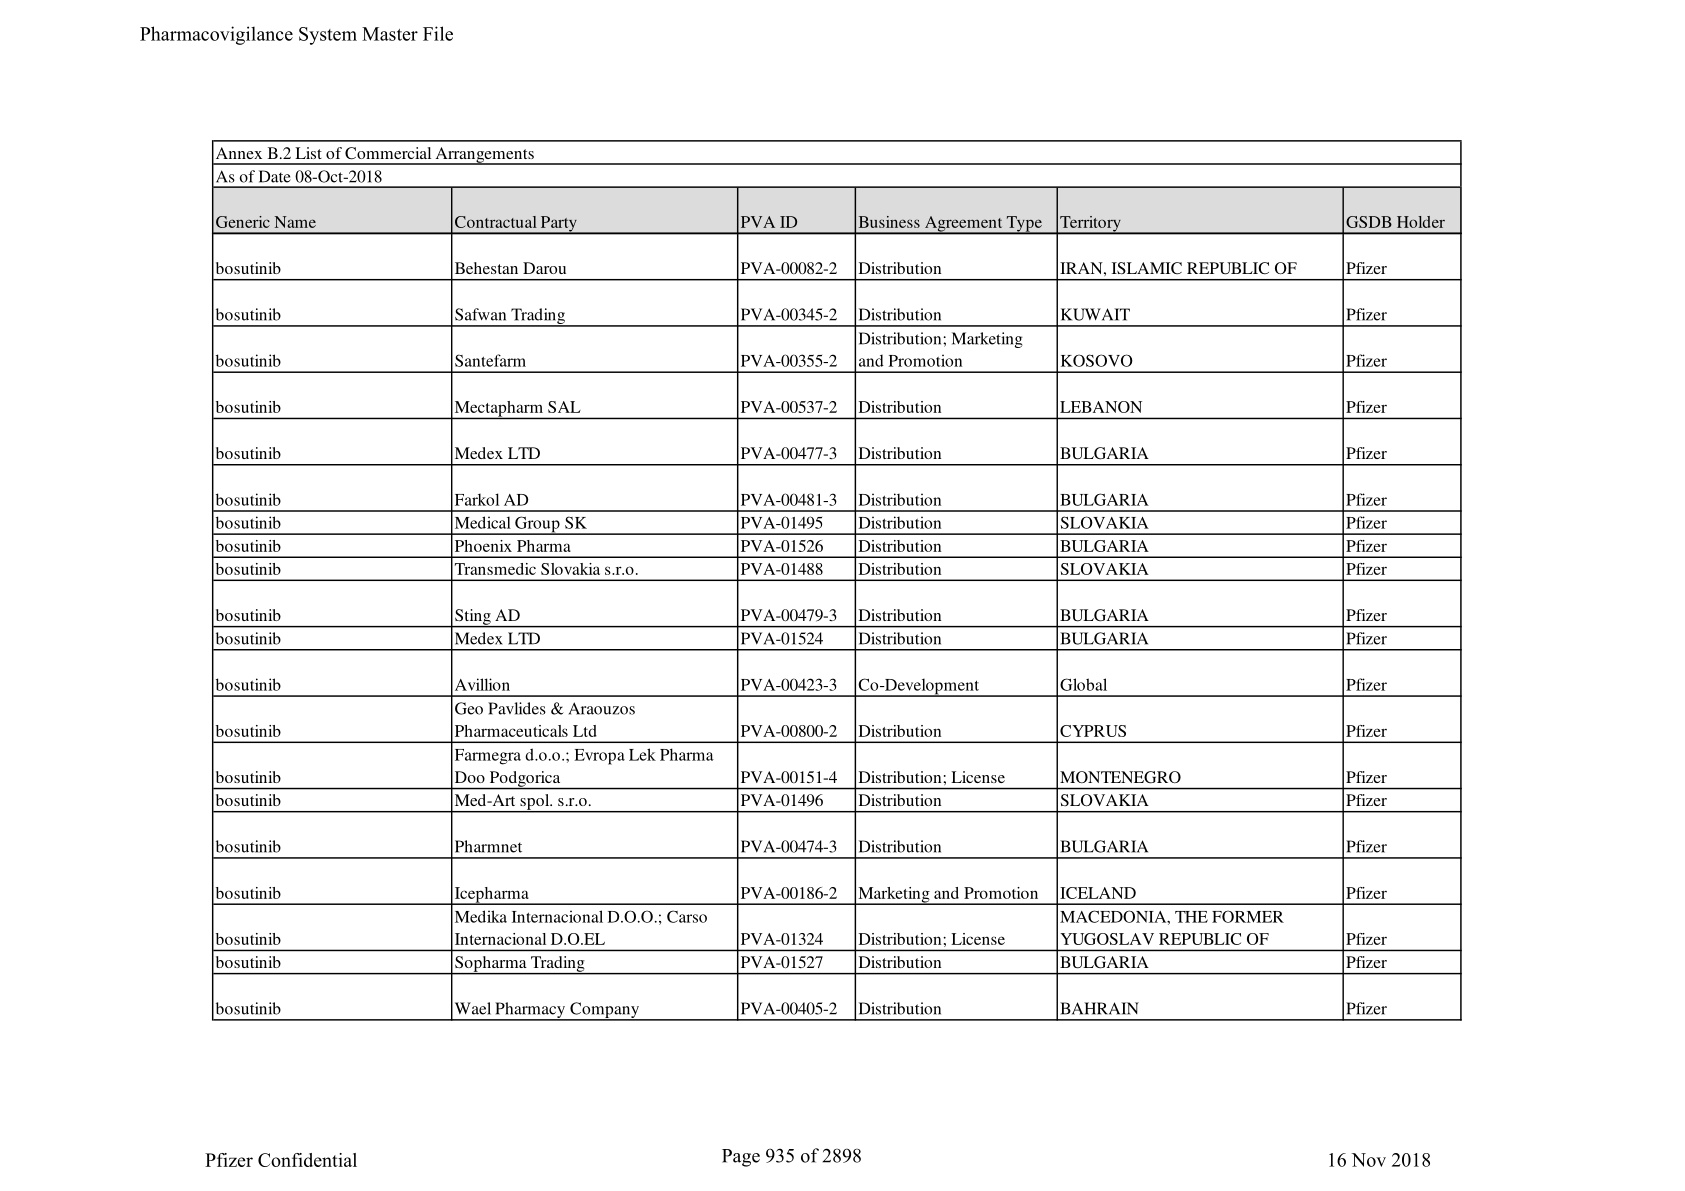merged_cells: (211, 139, 1462, 1021)
